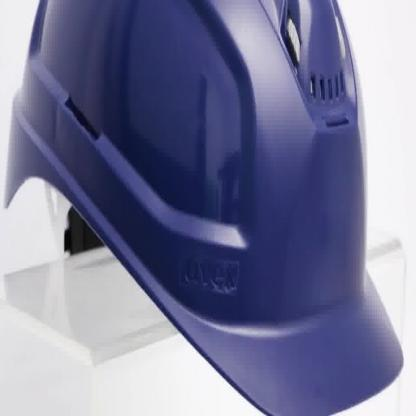helmet: (2, 0, 406, 415)
